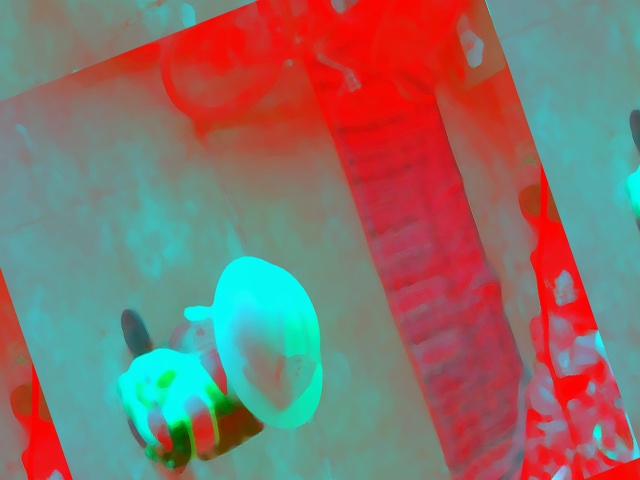three: (271, 350, 320, 402)
